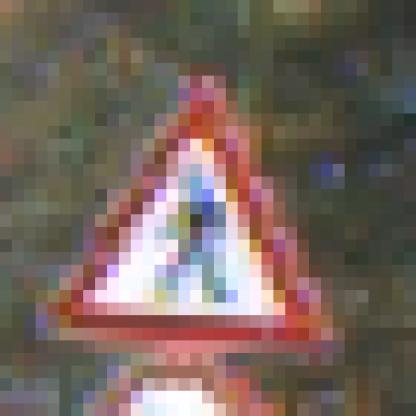crosswalk: (74, 86, 332, 353)
